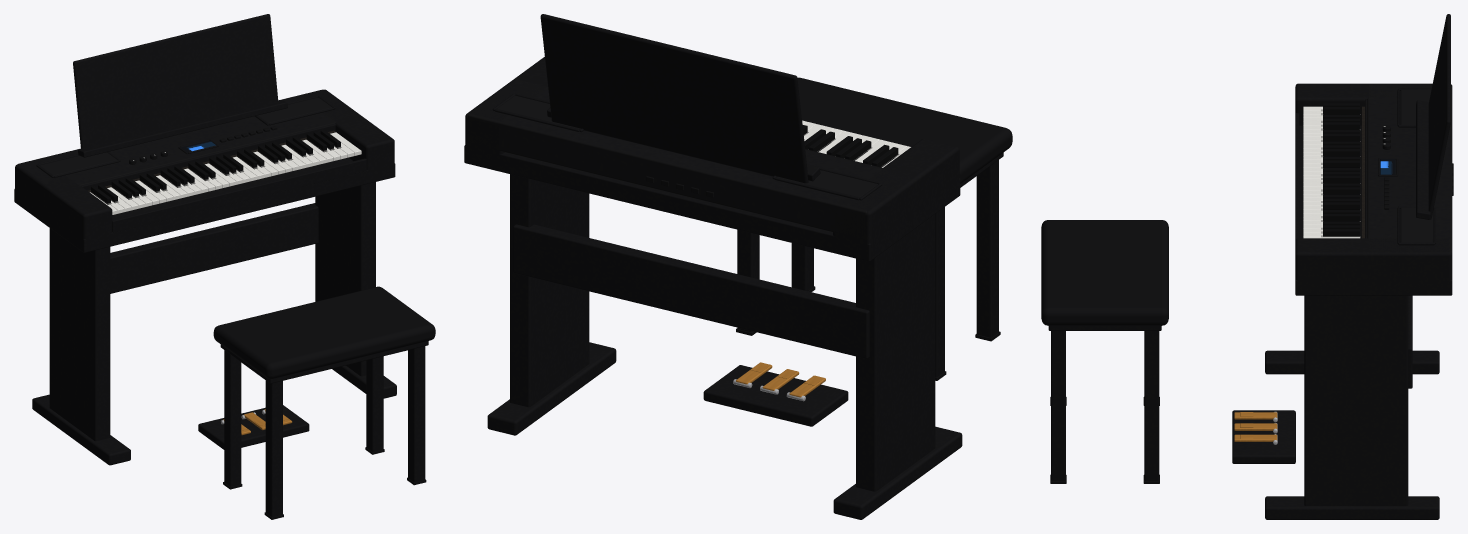
Rendered from KeyboardDigital61.glb.
3 renders of one model, left to right at view 1: azimuth 30°, elevation 25°; view 2: azimuth 150°, elevation 25°; view 3: azimuth 270°, elevation 25°, orthographic. The views are drawn at different scales.
Parts seen in each view (by area): view 1: MusicRest_Board, Bench_Cushion, Stand_Left, Stand_Crossbar, Stand_Right, Case_Base, Controls_Panel, Case_Cheek_Left, Case_FrontRail, Case_Cheek_Right, Bench_Leg_Left_Front, Bench_Leg_Right_Front (+10 smaller); view 2: MusicRest_Board, Stand_Crossbar, Stand_Left, Controls_Panel, Stand_Right, Case_Base, Bench_Cushion, Case_Cheek_Left, Pedals_Base, Bench_Leg_Left_Front, Case_Cheek_Right, Stand_Foot_Left (+6 smaller); view 3: Stand_Right, Bench_Cushion, Case_Cheek_Right, Controls_Panel, Stand_Foot_Right, Case_Base, MusicRest_Board, Pedals_Base, Bench_Leg_Right_Rear, Bench_Leg_Right_Front, Case_Cheek_Left, Stand_Foot_Left (+6 smaller).
Part boxes in pixels (left/top/right/bottom): MusicRest_Board: left=73, top=14, right=278, bottom=148; Bench_Cushion: left=213, top=286, right=435, bottom=379; Stand_Left: left=49, top=228, right=110, bottom=441; Stand_Crossbar: left=110, top=203, right=318, bottom=293; Stand_Right: left=315, top=182, right=375, bottom=376; Case_Base: left=14, top=147, right=395, bottom=252; Controls_Panel: left=17, top=89, right=347, bottom=201; Case_Cheek_Left: left=15, top=164, right=112, bottom=249; Case_FrontRail: left=112, top=158, right=366, bottom=232; Case_Cheek_Right: left=301, top=89, right=394, bottom=175; Bench_Leg_Left_Front: left=265, top=380, right=282, bottom=516; Bench_Leg_Right_Front: left=408, top=346, right=425, bottom=482; MusicRest_Board: left=540, top=14, right=808, bottom=183; Stand_Crossbar: left=513, top=224, right=869, bottom=358; Stand_Left: left=856, top=214, right=935, bottom=491; Controls_Panel: left=468, top=79, right=911, bottom=238; Stand_Right: left=510, top=174, right=589, bottom=407; Case_Base: left=464, top=145, right=960, bottom=261; Bench_Cushion: left=797, top=77, right=1012, bottom=183; Case_Cheek_Left: left=833, top=139, right=959, bottom=258; Pedals_Base: left=703, top=365, right=848, bottom=426; Bench_Leg_Left_Front: left=976, top=160, right=998, bottom=337; Case_Cheek_Right: left=465, top=56, right=547, bottom=168; Stand_Foot_Left: left=833, top=426, right=962, bottom=519; Stand_Right: left=1304, top=295, right=1408, bottom=505; Bench_Cushion: left=1041, top=220, right=1168, bottom=325; Case_Cheek_Right: left=1295, top=238, right=1452, bottom=293; Controls_Panel: left=1367, top=84, right=1452, bottom=253; Stand_Foot_Right: left=1265, top=496, right=1439, bottom=519; Case_Base: left=1295, top=125, right=1452, bottom=295; MusicRest_Board: left=1428, top=14, right=1450, bottom=219; Pedals_Base: left=1232, top=410, right=1295, bottom=463; Bench_Leg_Right_Rear: left=1144, top=331, right=1159, bottom=480; Bench_Leg_Right_Front: left=1051, top=331, right=1065, bottom=480; Case_Cheek_Left: left=1295, top=83, right=1432, bottom=125; Stand_Foot_Left: left=1265, top=350, right=1439, bottom=374.
Bounding box in the file's own units: 1.03 × 1.05 × 1.05.
71 materials, 71 textured.
